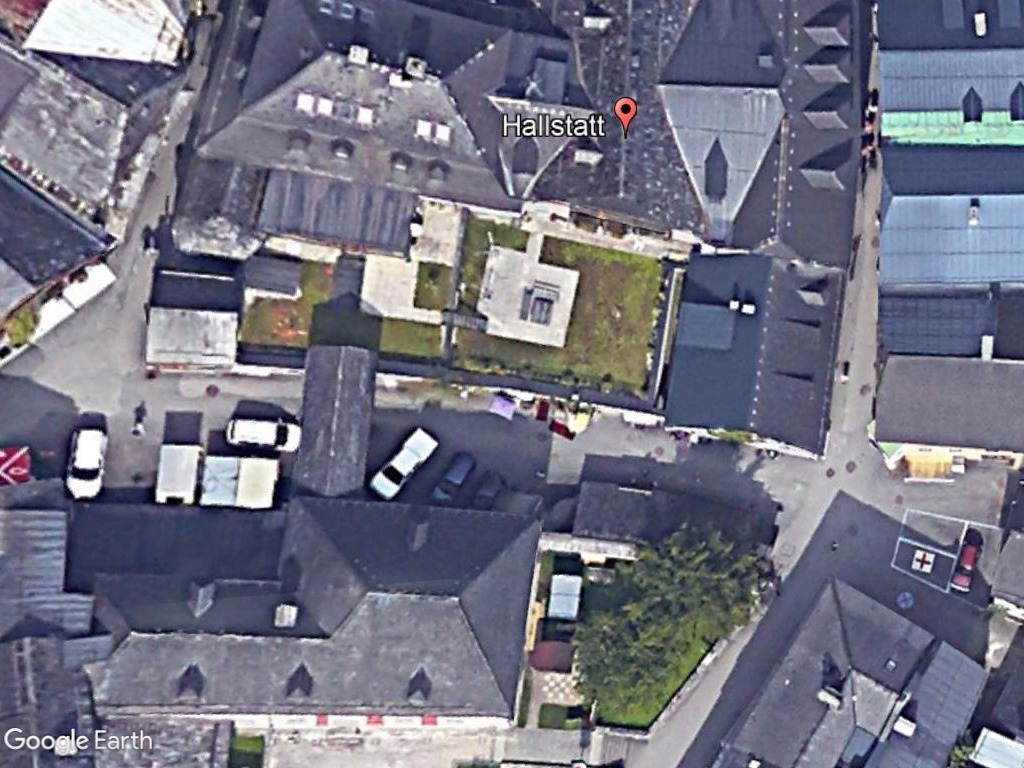car: (365, 421, 442, 502), (223, 411, 308, 457), (65, 420, 111, 502)
